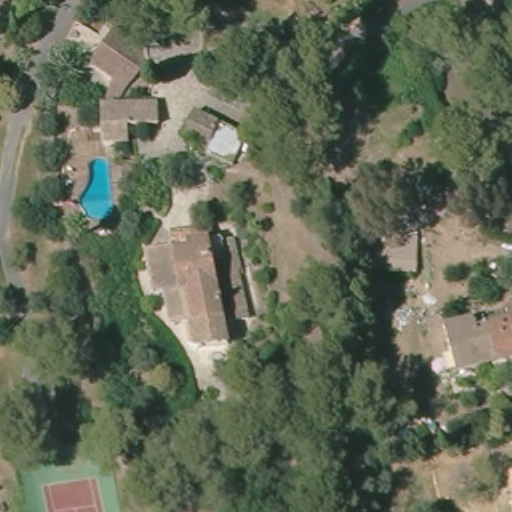pool: (72, 152, 124, 227)
